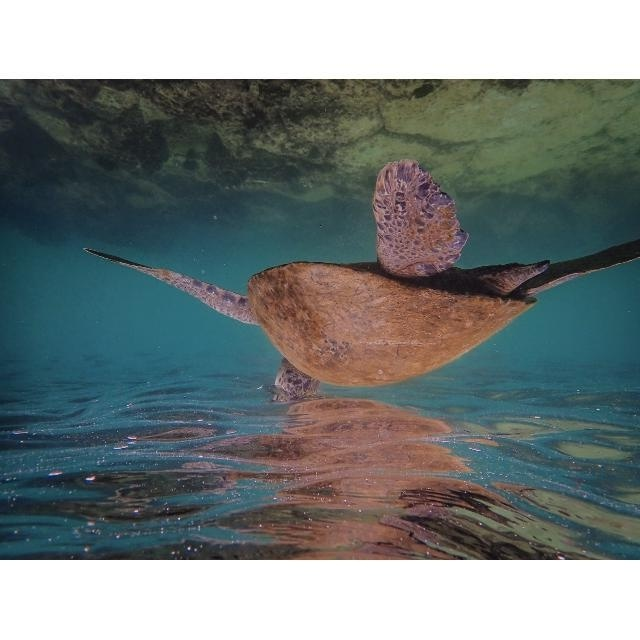turtle: (82, 159, 637, 401)
